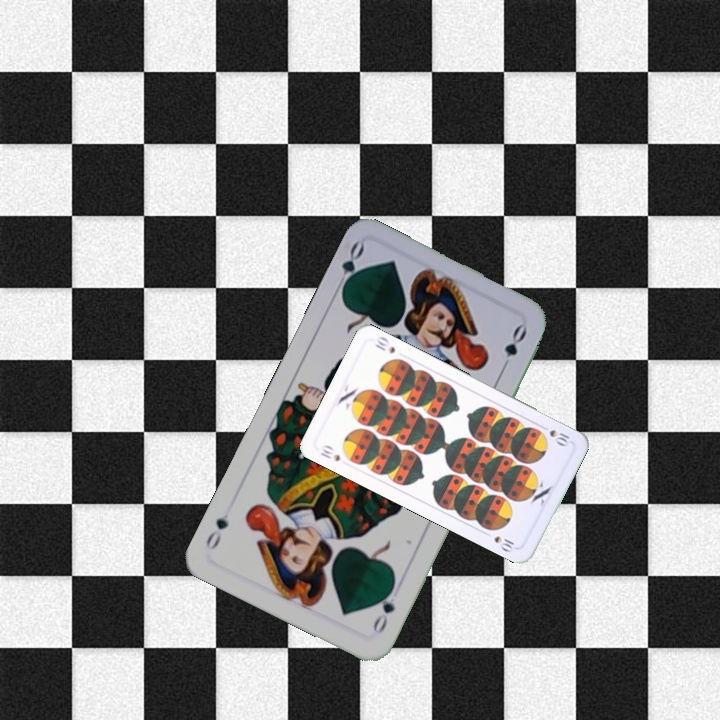GO: (331, 238, 367, 296), (368, 581, 398, 636)
S10: (545, 425, 574, 449), (316, 441, 343, 464)
